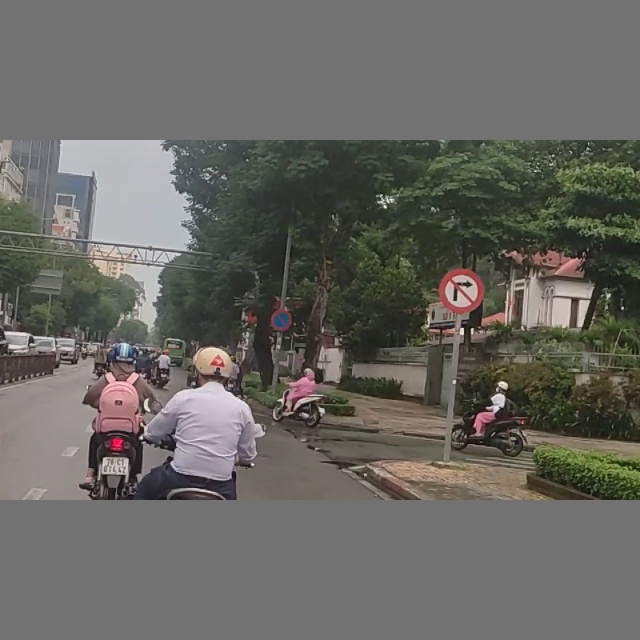P.123b: (439, 269, 485, 314)
P.131a: (270, 309, 292, 331)
